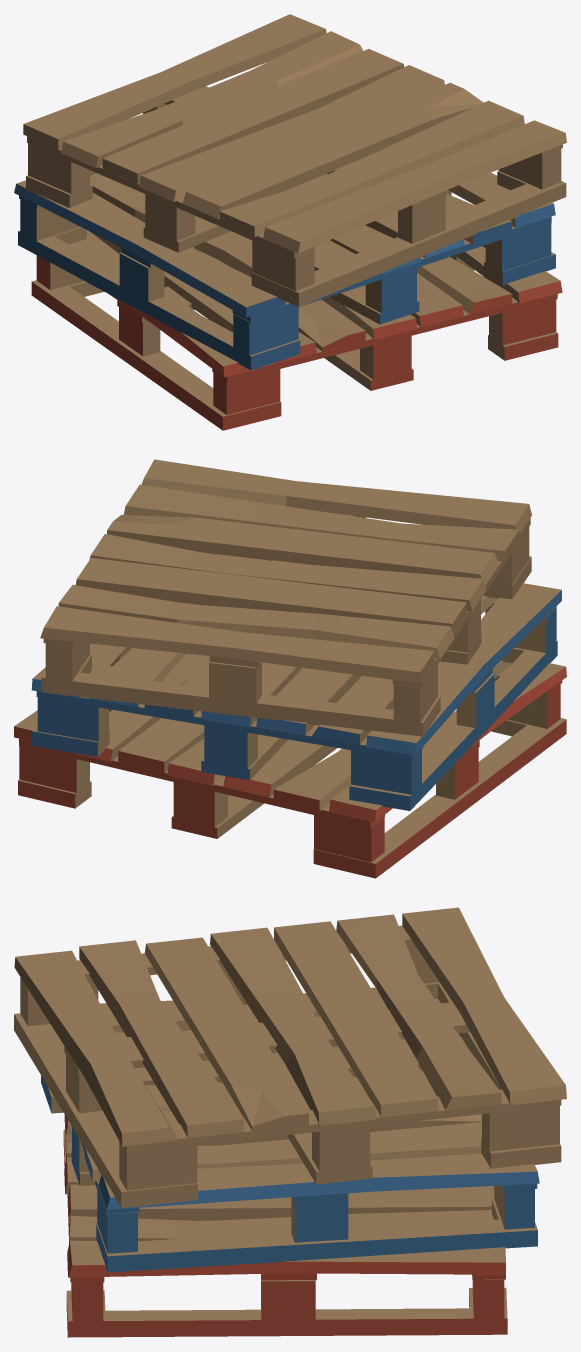
File: SM_Prop_Warehouse_Pallet_Stacked_02.obj
3 renders of one model, top to bottom at view 1: azimuth 30°, elevation 25°; view 2: azimuth 150°, elevation 25°; view 3: azimuth 270°, elevation 25°, orthographic. The views are drawn at different scales.
Visible parts, largest first — view 1: SM_Prop_Warehouse_Pallet_Stacked_02_0; view 2: SM_Prop_Warehouse_Pallet_Stacked_02_0; view 3: SM_Prop_Warehouse_Pallet_Stacked_02_0.
Boxes of the visible parts, x1,y1,x2,y2 form: SM_Prop_Warehouse_Pallet_Stacked_02_0: [14, 14, 566, 430]; SM_Prop_Warehouse_Pallet_Stacked_02_0: [14, 459, 566, 878]; SM_Prop_Warehouse_Pallet_Stacked_02_0: [14, 907, 566, 1337].
Bounding box in the file's own units: 1.7 × 0.7674 × 1.74.
1 material, 1 textured.
